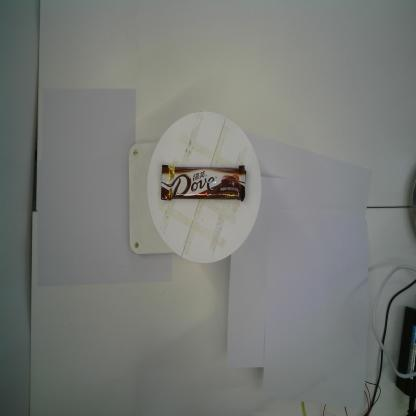Chocolate: (159, 162, 247, 204)
